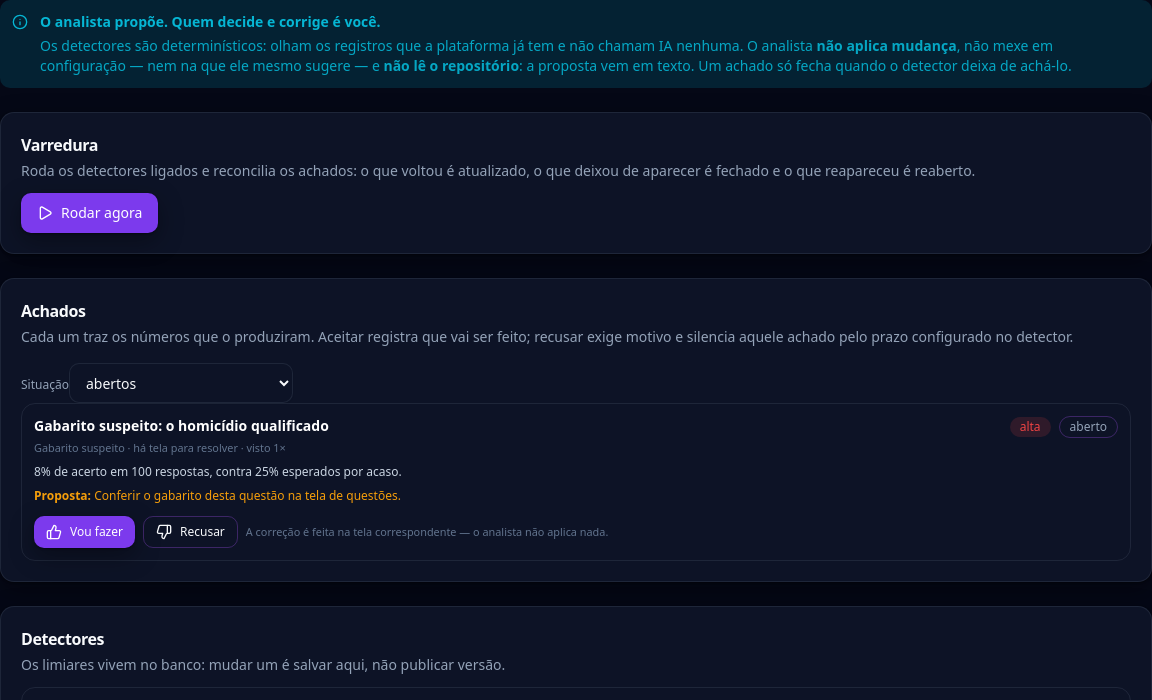
Scenario: ImprovementsSection › recusar exige motivo antes de habilitar o registro
This screenshot has width=1152, height=700.
Expected: the text "8% de acerto" is shown, [34,463,402,480]
Click the button "Recusar" at (190, 532), box [143,516,238,548]
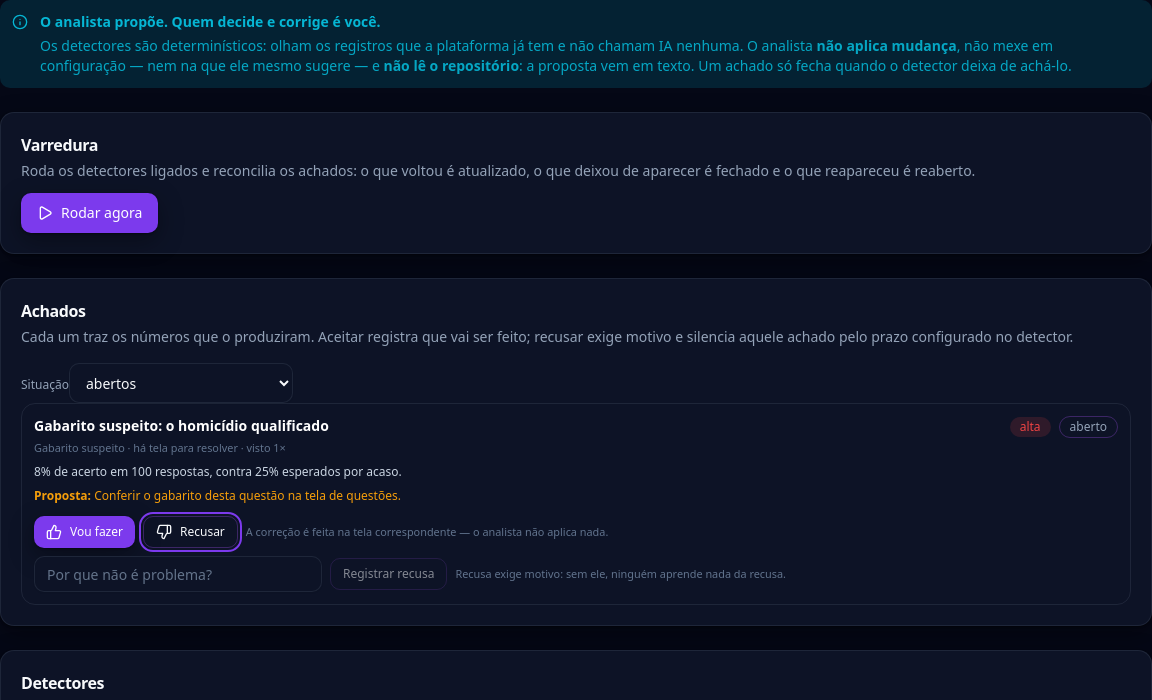
Now the button "Registrar recusa" is disabled, box [330,558,448,590]
Type "É difícil de propósito" into the field named "Motivo da recusa" at (178, 574), box [34,556,322,592]
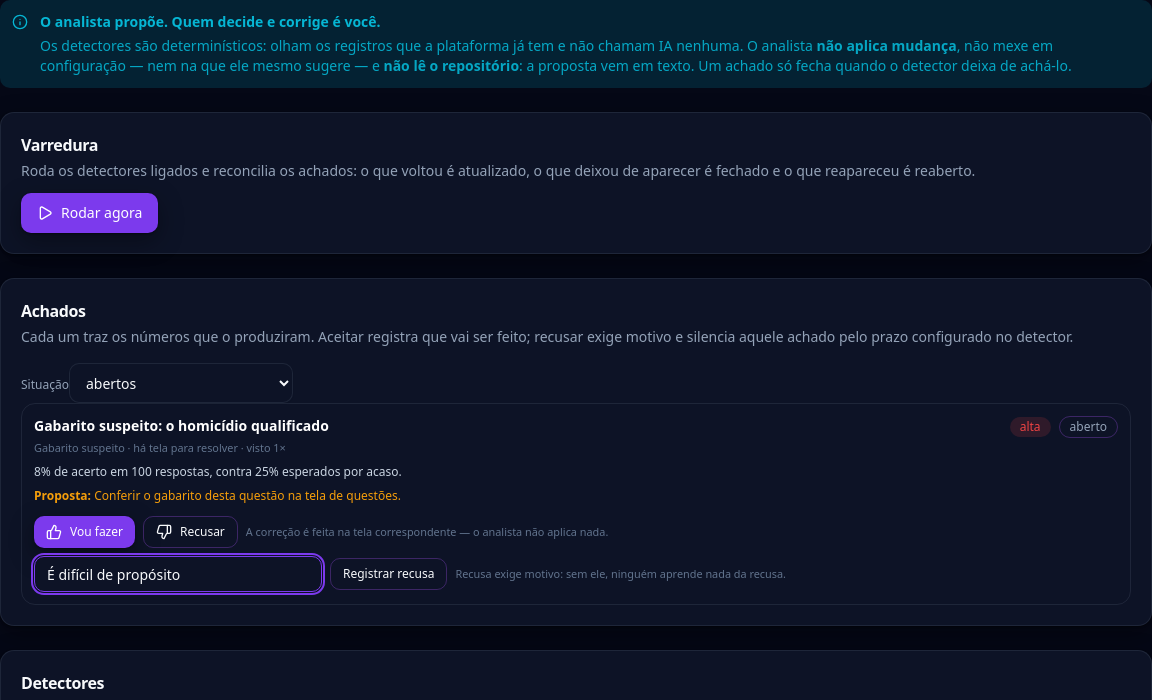
Now the button "Registrar recusa" is enabled, box [330,558,448,590]
